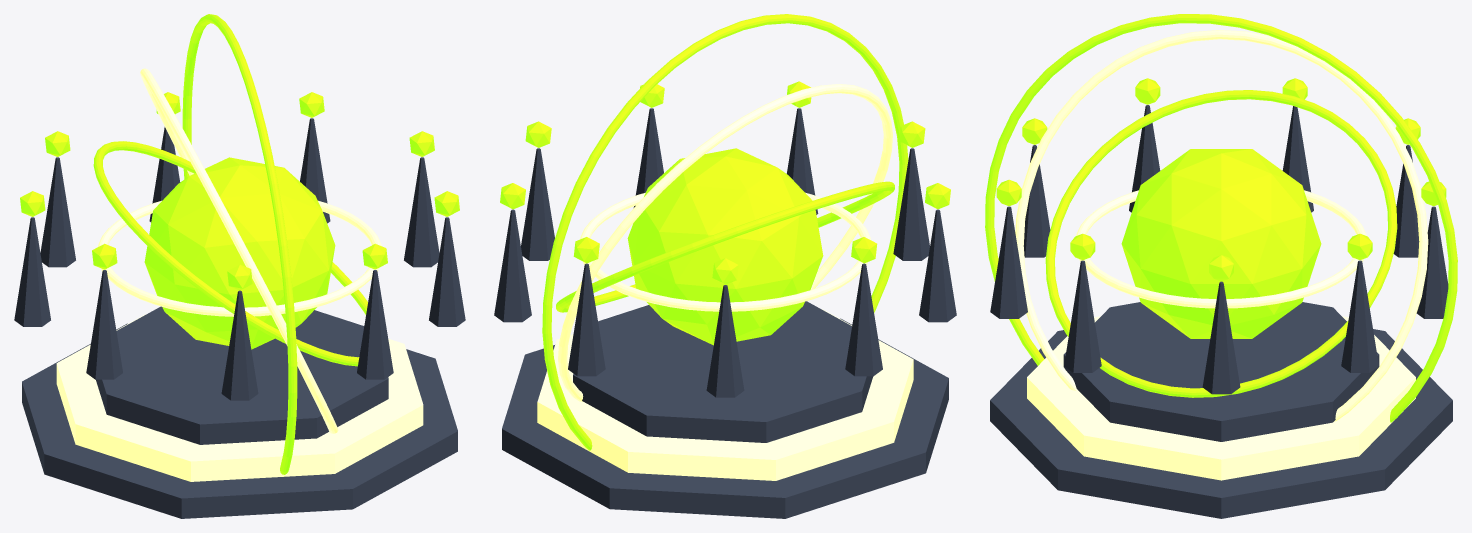
File: gpu-blender-v38.glb
The picture shows the model from 3 angles, left to right: view 1: azimuth 30°, elevation 25°; view 2: azimuth 150°, elevation 25°; view 3: azimuth 270°, elevation 25°; orthographic projection. The views are drawn at different scales.
Visible parts, largest first — view 1: Cylinder.002, Cylinder, SovereignCore_agent-capsule-jail, Cylinder.001, Torus.003, Torus.001, Torus.002, Torus, Cone.006, Cone, Cone.003, Cone.005 (+13 smaller); view 2: Cylinder.002, SovereignCore_agent-capsule-jail, Cylinder, Cylinder.001, Torus.003, Torus.002, Torus.001, Torus, Cone.002, Cone.004, Cone.001, Cone.005 (+12 smaller); view 3: SovereignCore_agent-capsule-jail, Cylinder.002, Cylinder, Cylinder.001, Torus.003, Torus.002, Torus.001, Torus, Cone, Cone.007, Cone.001, Cone.008 (+9 smaller).
Part boxes in pixels (x1,y1,x2,y2): Cylinder.002: [96, 306, 388, 444]; Cylinder: [22, 323, 457, 518]; SovereignCore_agent-capsule-jail: [144, 157, 335, 349]; Cylinder.001: [56, 314, 423, 481]; Torus.003: [182, 14, 297, 474]; Torus.001: [93, 141, 367, 366]; Torus.002: [140, 68, 338, 433]; Torus: [98, 200, 381, 316]; Cone.006: [221, 290, 258, 400]; Cone: [404, 157, 439, 267]; Cone.003: [40, 157, 75, 267]; Cone.005: [86, 270, 122, 379]; Cylinder.002: [573, 301, 873, 442]; SovereignCore_agent-capsule-jail: [627, 148, 823, 345]; Cylinder: [502, 318, 948, 518]; Cylinder.001: [537, 309, 913, 480]; Torus.003: [542, 14, 908, 450]; Torus.002: [558, 84, 892, 401]; Torus.001: [556, 181, 894, 312]; Torus: [580, 192, 870, 311]; Cone.002: [568, 263, 605, 376]; Cone.004: [845, 263, 882, 376]; Cone.001: [494, 209, 531, 322]; Cone.005: [919, 209, 956, 322]; SovereignCore_agent-capsule-jail: [1121, 149, 1321, 338]; Cylinder.002: [1063, 302, 1379, 441]; Cylinder: [990, 329, 1452, 518]; Cylinder.001: [1027, 316, 1415, 480]; Torus.003: [985, 14, 1457, 422]; Torus.002: [1015, 30, 1428, 421]; Torus.001: [1045, 90, 1397, 397]; Torus: [1076, 190, 1366, 308]; Cone: [1202, 281, 1240, 394]; Cone.007: [990, 206, 1027, 318]; Cone.001: [1341, 260, 1378, 372]; Cone.008: [1064, 260, 1101, 372].
Bounding box in the file's own units: 4.41 × 4.7 × 4.49.
